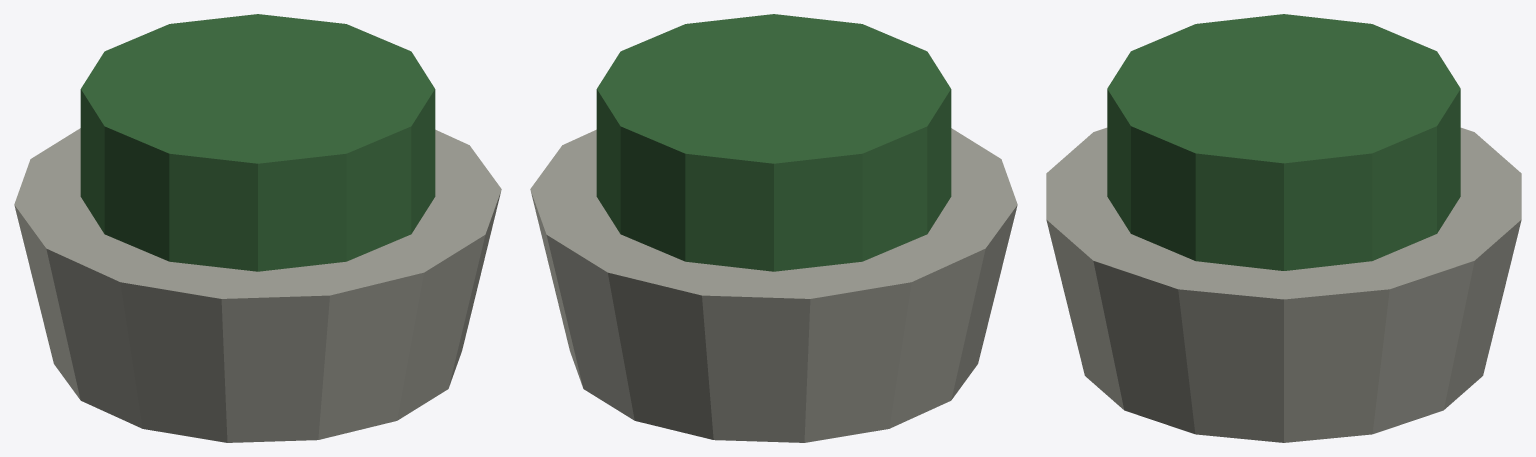
File: round_planter.glb
The picture shows the model from 3 angles, left to right: view 1: azimuth 30°, elevation 25°; view 2: azimuth 150°, elevation 25°; view 3: azimuth 270°, elevation 25°; orthographic projection.
Parts seen in each view (by area): view 1: round_planter; view 2: round_planter; view 3: round_planter.
Boxes of the visible parts, x1,y1,x2,y2 form: round_planter: (14,14,501,442); round_planter: (530,14,1017,442); round_planter: (1046,14,1521,442).
Size of the model in its own units: 1.6 by 0.97 by 1.56.
